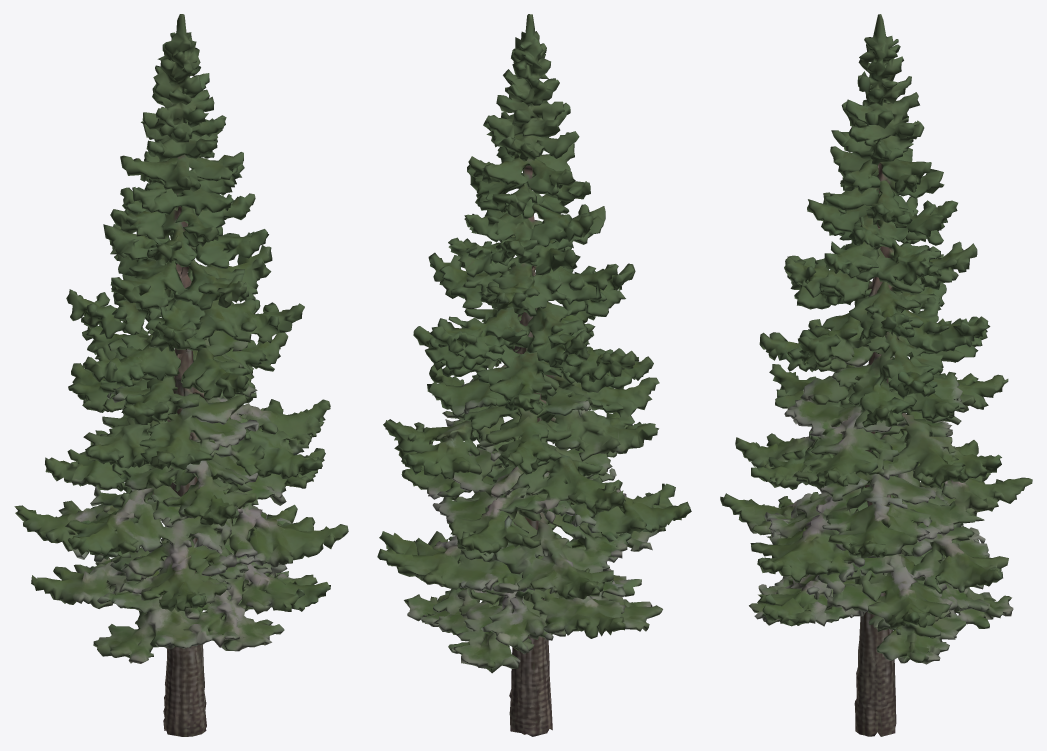
The model's file is tree_43_sitka_spruce.glb.
3 renders of one model, left to right at view 1: azimuth 30°, elevation 25°; view 2: azimuth 150°, elevation 25°; view 3: azimuth 270°, elevation 25°, orthographic.
Visible parts, largest first — view 1: world; view 2: world; view 3: world.
Part boxes in pixels (x1,y1,x2,y2): world: (14,14,348,736); world: (377,14,691,736); world: (720,14,1032,736).
Bounding box in the file's own units: 0.4078 × 1 × 0.3985.
Materials: 1 (1 with a texture image).
